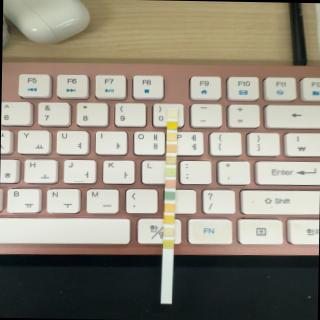mark: (162, 238, 173, 248), (163, 202, 174, 212), (164, 190, 175, 200), (164, 178, 175, 188), (163, 214, 174, 223), (165, 167, 176, 176), (165, 156, 176, 164), (165, 144, 176, 152), (166, 121, 177, 129), (163, 227, 173, 235), (166, 132, 176, 140), (168, 109, 178, 117)
